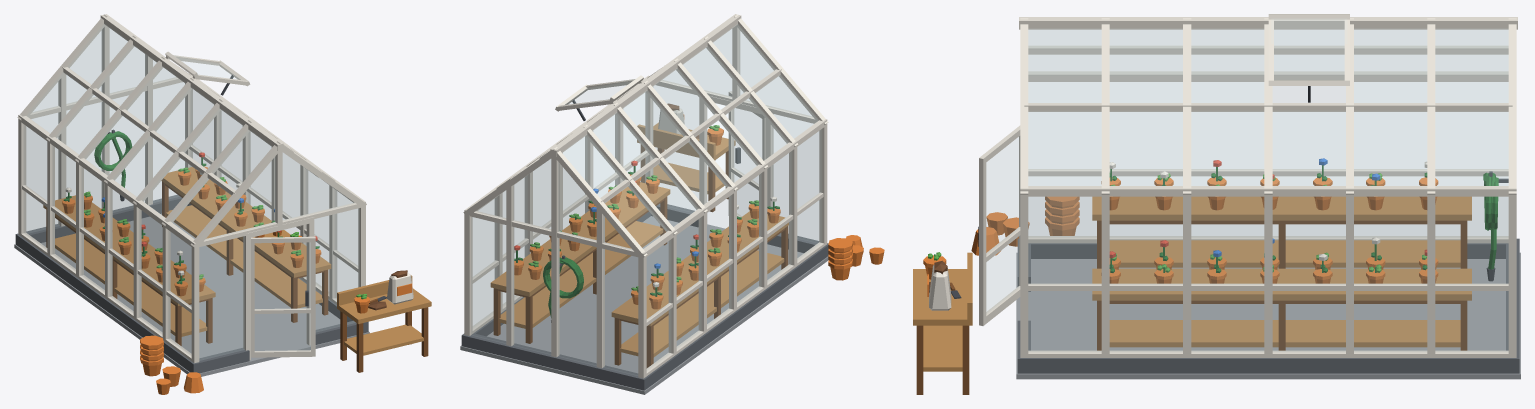
The model's file is garden-greenhouse.glb.
3 renders of one model, left to right at view 1: azimuth 30°, elevation 25°; view 2: azimuth 150°, elevation 25°; view 3: azimuth 270°, elevation 25°, orthographic. The views are drawn at different scales.
Parts seen in each view (by area): view 1: Greenhouse_Glass, Greenhouse_Frame, Greenhouse_Base, Benches, Door, Potting_Table, Bench_Pots, Terracotta_Pots, RoofVent, Bench_Plants, Hose_On_Hook; view 2: Greenhouse_Glass, Greenhouse_Frame, Greenhouse_Base, Benches, Bench_Pots, Potting_Table, Door, Terracotta_Pots, Bench_Plants, RoofVent, Hose_On_Hook; view 3: Greenhouse_Glass, Greenhouse_Frame, Benches, Greenhouse_Base, Door, Potting_Table, RoofVent, Bench_Pots, Terracotta_Pots, Bench_Plants, Hose_On_Hook.
Boxes of the visible parts, x1=… form: Greenhouse_Glass: x1=24, y1=24, x2=359, y2=360; Greenhouse_Frame: x1=17, y1=14, x2=366, y2=363; Greenhouse_Base: x1=14, y1=194, x2=369, y2=376; Benches: x1=43, y1=167, x2=331, y2=345; Door: x1=251, y1=236, x2=315, y2=357; Potting_Table: x1=337, y1=270, x2=431, y2=372; Bench_Pots: x1=62, y1=166, x2=321, y2=296; Terracotta_Pots: x1=140, y1=335, x2=203, y2=394; RoofVent: x1=165, y1=51, x2=250, y2=86; Bench_Plants: x1=63, y1=152, x2=366, y2=299; Hose_On_Hook: x1=94, y1=129, x2=132, y2=201; Greenhouse_Glass: x1=471, y1=25, x2=821, y2=375; Greenhouse_Frame: x1=463, y1=14, x2=828, y2=378; Greenhouse_Base: x1=460, y1=204, x2=828, y2=394; Benches: x1=490, y1=182, x2=788, y2=368; Bench_Pots: x1=514, y1=174, x2=780, y2=309; Potting_Table: x1=637, y1=103, x2=735, y2=212; Door: x1=728, y1=91, x2=765, y2=217; Terracotta_Pots: x1=828, y1=235, x2=884, y2=280; Bench_Plants: x1=514, y1=125, x2=779, y2=296; RoofVent: x1=555, y1=75, x2=643, y2=111; Hose_On_Hook: x1=543, y1=255, x2=583, y2=322; Greenhouse_Glass: x1=1028, y1=29, x2=1508, y2=351; Greenhouse_Frame: x1=1019, y1=17, x2=1517, y2=357; Benches: x1=1092, y1=196, x2=1471, y2=350; Greenhouse_Base: x1=1016, y1=238, x2=1520, y2=379; Door: x1=978, y1=125, x2=1020, y2=325; Potting_Table: x1=913, y1=252, x2=972, y2=394; RoofVent: x1=1268, y1=14, x2=1349, y2=85; Bench_Pots: x1=1101, y1=177, x2=1438, y2=283; Terracotta_Pots: x1=971, y1=196, x2=1079, y2=255; Bench_Plants: x1=928, y1=158, x2=1427, y2=272; Hose_On_Hook: x1=1483, y1=171, x2=1508, y2=281.
Bounding box in the file's own units: 14.7 × 12.5 × 22.4.
